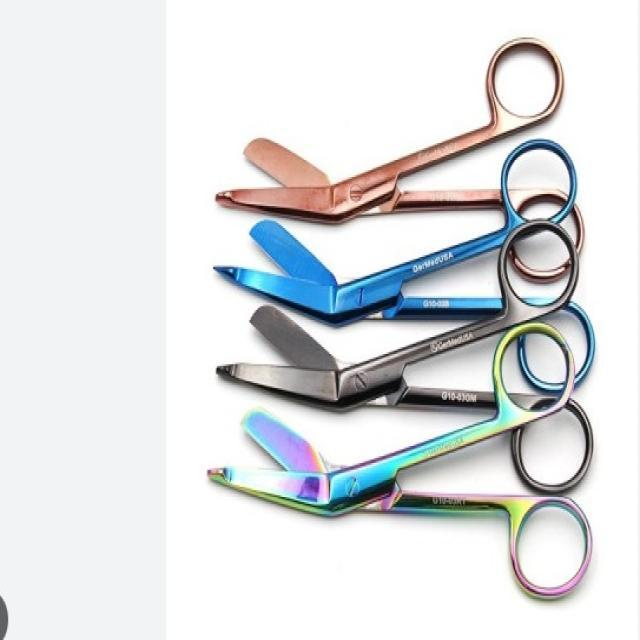Bandage Sciccors: (197, 404, 617, 606), (218, 38, 582, 268), (208, 290, 601, 484), (214, 210, 613, 390)
